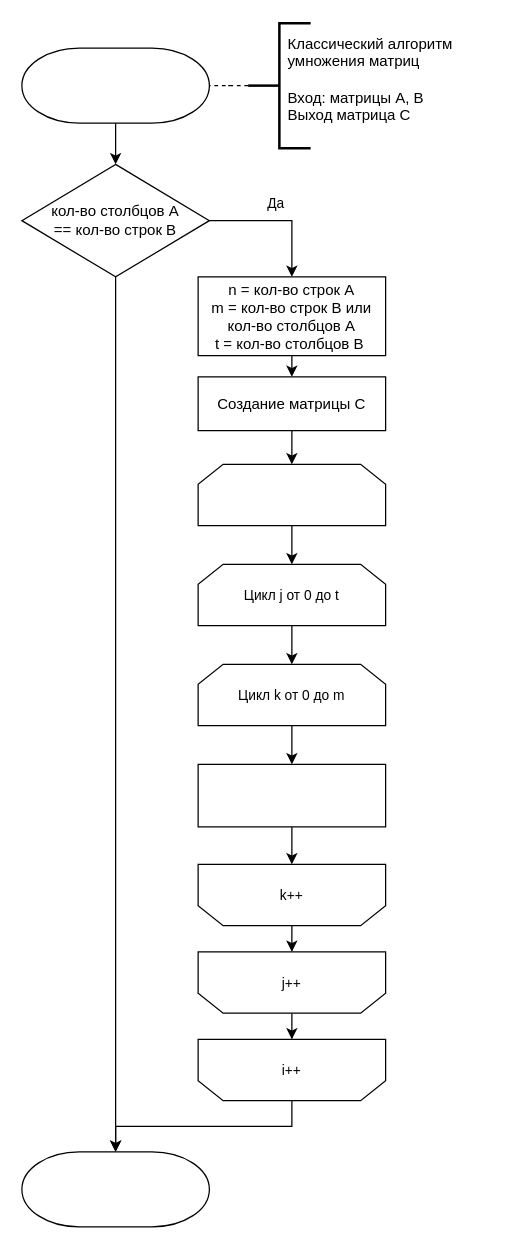
Some shapes in this 508 by 1249 pixel diagram are drawn without their labels. Here are the shapes that lost their labels. From the top down, the centre of each, then its label:
At (x=115, y=85): "Начало".
At (x=291, y=494): "Цикл i от 0 до n".
At (x=291, y=795): "C[i][j] = A[i][k] * B[k][j]".
At (x=115, y=1189): "Конец".
